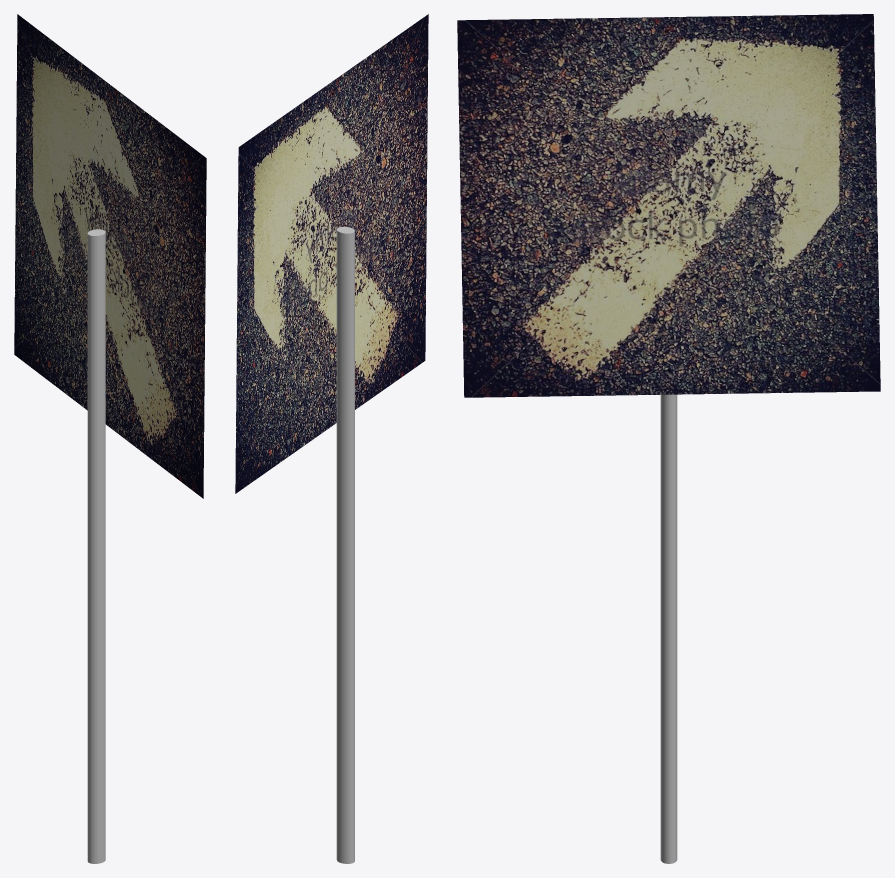
The model's file is right.obj.
3 renders of one model, left to right at view 1: azimuth 30°, elevation 25°; view 2: azimuth 150°, elevation 25°; view 3: azimuth 270°, elevation 25°, orthographic. The views are drawn at different scales.
Parts seen in each view (by area): view 1: Plane, Cylinder; view 2: Plane, Cylinder; view 3: Plane, Cylinder.
Part boxes in pixels (box(x1,y1,x2,y2)): Plane: box(14, 14, 206, 498); Cylinder: box(87, 229, 105, 863); Plane: box(235, 14, 428, 493); Cylinder: box(336, 226, 354, 863); Plane: box(457, 14, 880, 397); Cylinder: box(660, 394, 677, 863).
Bounding box in the file's own units: 0.1341 × 4.52 × 2.03.
2 materials, 1 textured.
